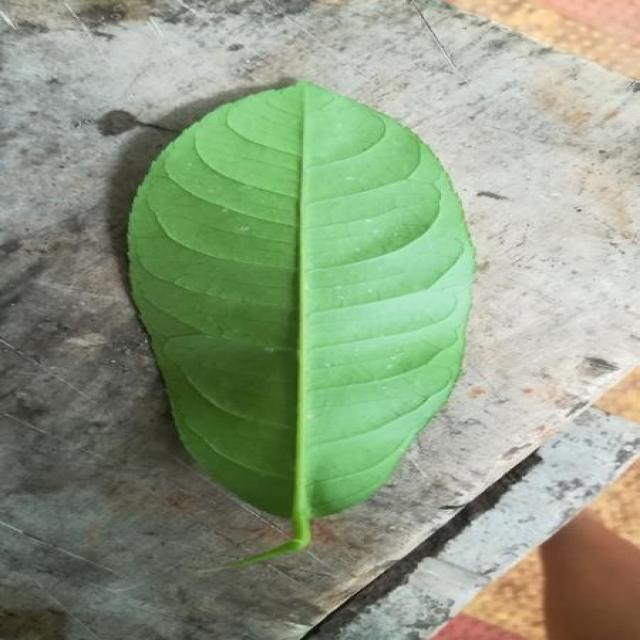badipala: (128, 82, 473, 566)
